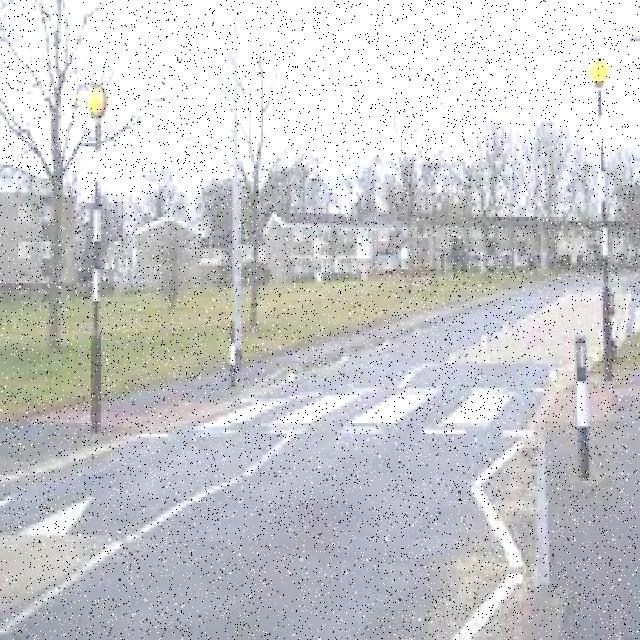crosswalk: (172, 376, 544, 442)
